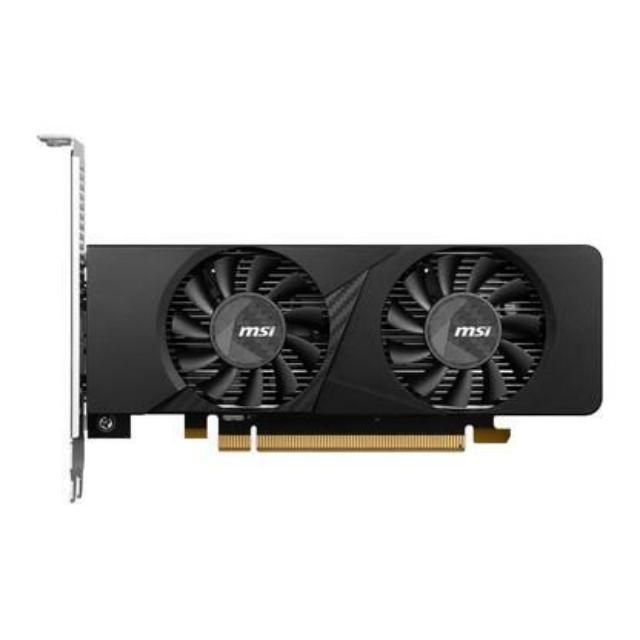GPU: (65, 235, 613, 456)
